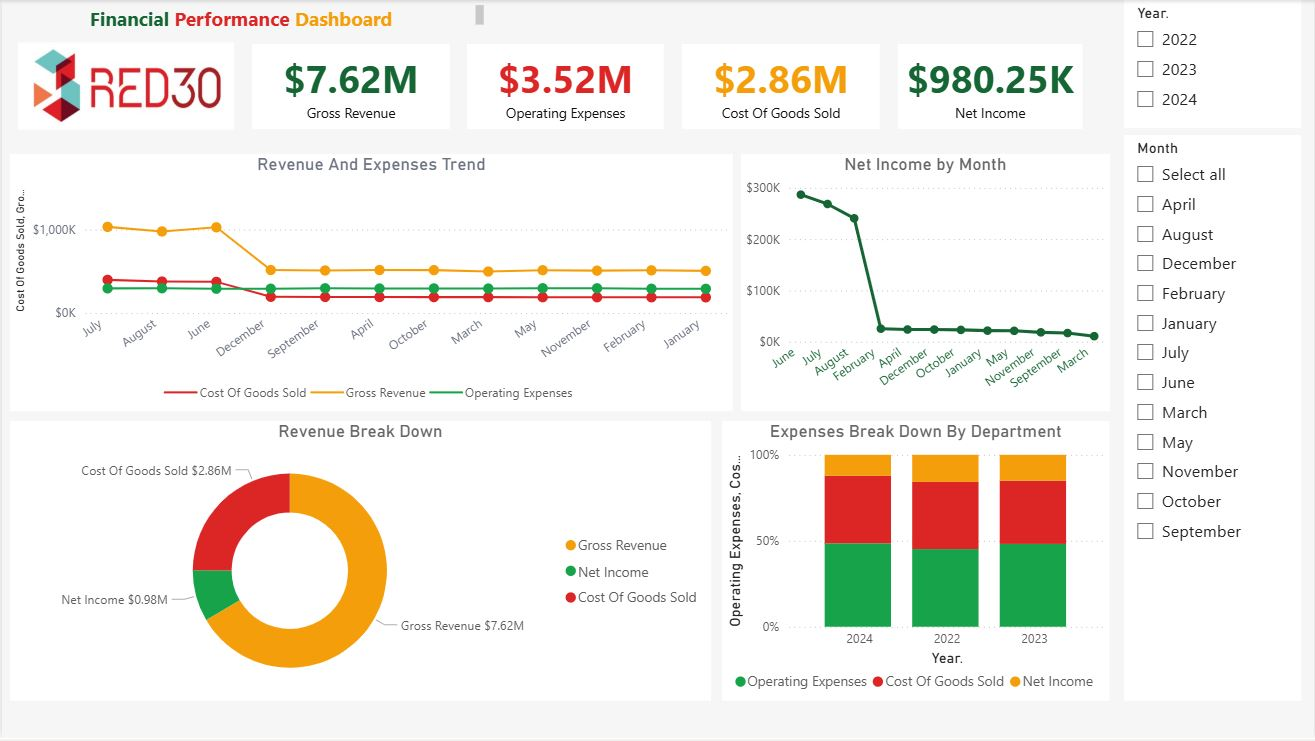

The page's visual inventory and layout, read from the dashboard file:
{"tool":"powerbi","page":{"name":"Financial Performence Report","canvas":[1280,720],"ordinal":0},"visuals":[{"type":"card","fields":{"Values":["actuals & budget combined.Cost Of Goods Sold"]},"box":[663.4,43,193.2,82.5],"z":0},{"type":"lineChart","title":"Revenue And Expenses Trend","fields":{"Y":["actuals & budget combined.Cost Of Goods Sold","actuals & budget combined.Gross Revenue","actuals & budget combined.Operating Expenses"],"Category":["actuals & budget combined.Month"]},"box":[7.9,150.1,705.1,251.1],"z":1000},{"type":"lineChart","fields":{"Category":["actuals & budget combined.Month"],"Y":["actuals & budget combined.Net Income"]},"box":[720.9,150.1,360,251.1],"z":2000},{"type":"card","fields":{"Values":["actuals & budget combined.Operating Expenses"]},"box":[454,43,192.3,82.5],"z":3000},{"type":"donutChart","title":"Revenue Break Down","fields":{"Y":["actuals & budget combined.Gross Revenue","actuals & budget combined.Net Income","actuals & budget combined.Cost Of Goods Sold"]},"box":[7.9,410.9,684,273.1],"z":4000},{"type":"hundredPercentStackedColumnChart","title":"Expenses Break Down By Department","fields":{"Category":["actuals & budget combined.Year."],"Y":["actuals & budget combined.Operating Expenses","actuals & budget combined.Cost Of Goods Sold","actuals & budget combined.Net Income"]},"box":[702.4,410.9,378.4,273.1],"z":5000},{"type":"slicer","fields":{"Values":["actuals & budget combined.Year."]},"box":[1094.9,0,173,124.7],"z":6000},{"type":"slicer","fields":{"Values":["actuals & budget combined.Month"]},"box":[1094.9,131.7,173,552.3],"z":7000},{"type":"textbox","box":[0,0,475,32.5],"z":8000},{"type":"card","fields":{"Values":["actuals & budget combined.Net Income"]},"box":[873.7,43,180,82.5],"z":9000},{"type":"image","box":[15.8,25.5,210.7,117.7],"z":10000},{"type":"card","fields":{"Values":["actuals & budget combined.Gross Revenue"]},"box":[243.7,43,193.2,82.5],"z":11000}]}

Visuals, with their boxes in screenshot pixels (x1, y1, x2, y2), scaled from the page's 1280x720 canvas onto the 1315x741 screenshot:
card - actuals & budget combined.Cost Of Goods Sold: [x1=682, y1=44, x2=880, y2=129]
"Revenue And Expenses Trend" lineChart: [x1=8, y1=154, x2=732, y2=413]
lineChart - actuals & budget combined.Month x actuals & budget combined.Net Income: [x1=741, y1=154, x2=1110, y2=413]
card - actuals & budget combined.Operating Expenses: [x1=466, y1=44, x2=664, y2=129]
"Revenue Break Down" donutChart: [x1=8, y1=423, x2=711, y2=704]
"Expenses Break Down By Department" hundredPercentStackedColumnChart: [x1=722, y1=423, x2=1110, y2=704]
slicer - actuals & budget combined.Year.: [x1=1125, y1=0, x2=1303, y2=128]
slicer - actuals & budget combined.Month: [x1=1125, y1=136, x2=1303, y2=704]
textbox: [x1=0, y1=0, x2=488, y2=33]
card - actuals & budget combined.Net Income: [x1=898, y1=44, x2=1083, y2=129]
image: [x1=16, y1=26, x2=233, y2=147]
card - actuals & budget combined.Gross Revenue: [x1=250, y1=44, x2=449, y2=129]
